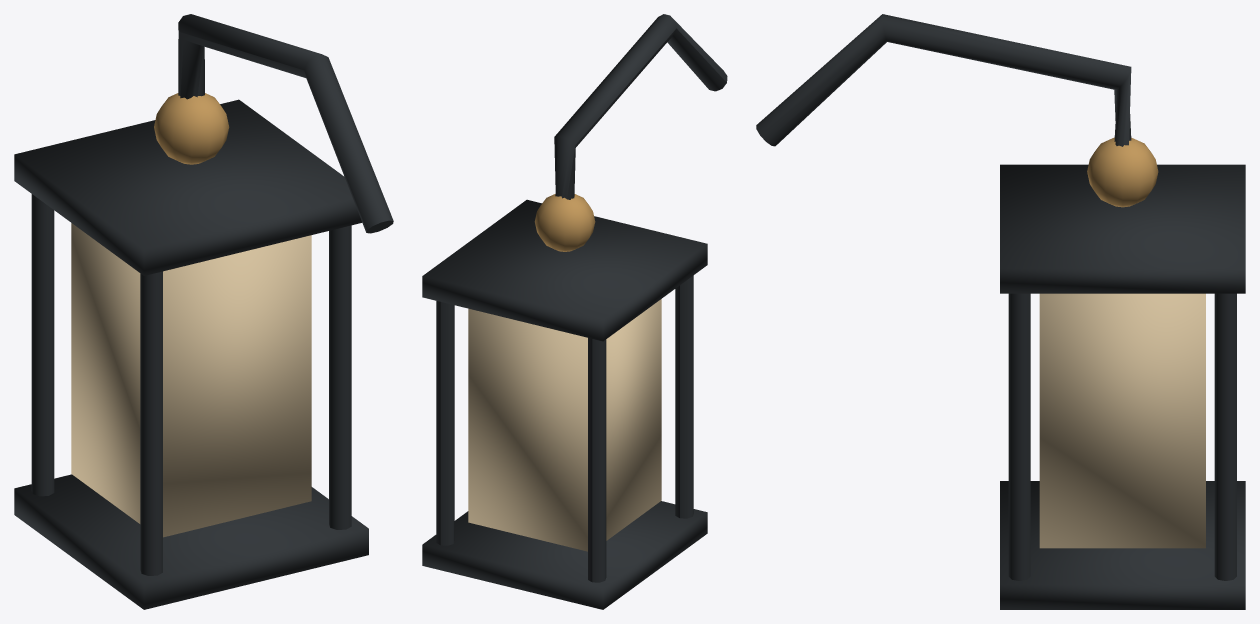
The model's file is lantern.glb.
3 views of the same model, side by side, from view 1: azimuth 30°, elevation 25°; view 2: azimuth 150°, elevation 25°; view 3: azimuth 270°, elevation 25° (orthographic). The views are drawn at different scales.
Parts seen in each view (by area): view 1: lantern_black.002, lantern_enamel.002, lantern_brass.002; view 2: lantern_black.002, lantern_enamel.002, lantern_brass.002; view 3: lantern_black.002, lantern_enamel.002, lantern_brass.002.
Part boxes in pixels (box(x1,y1,x2,y2)): lantern_black.002: box(14, 14, 393, 609); lantern_enamel.002: box(71, 223, 311, 537); lantern_brass.002: box(154, 93, 229, 164); lantern_black.002: box(422, 14, 727, 609); lantern_enamel.002: box(468, 299, 661, 551); lantern_brass.002: box(534, 194, 595, 251); lantern_black.002: box(756, 14, 1245, 609); lantern_enamel.002: box(1039, 293, 1205, 548); lantern_brass.002: box(1087, 137, 1158, 207).
Size of the model in its own units: 0.31 by 0.7544 by 0.6171.
